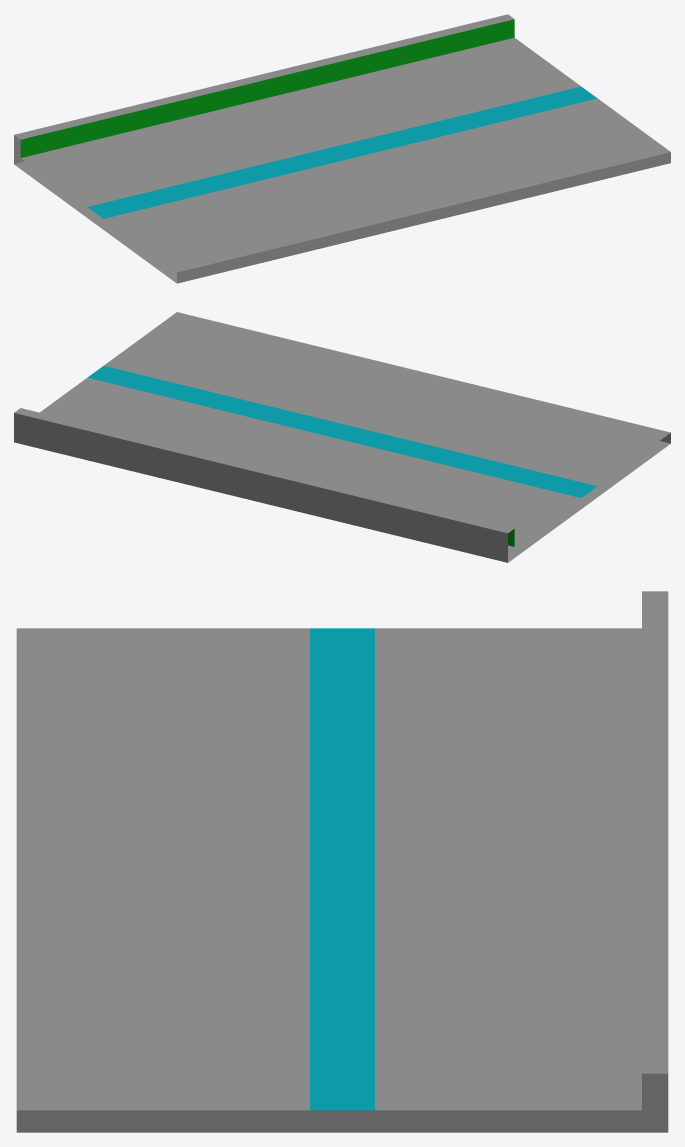
File: mesh_road_straight_01_rightrail.FBX
3 renders of one model, top to bottom at view 1: azimuth 30°, elevation 25°; view 2: azimuth 150°, elevation 25°; view 3: azimuth 270°, elevation 25°, orthographic. The views are drawn at different scales.
Visible parts, largest first — view 1: Box001; view 2: Box001; view 3: Box001.
Boxes of the visible parts, x1,y1,x2,y2 form: Box001: [14, 14, 670, 283]; Box001: [14, 312, 670, 562]; Box001: [16, 591, 668, 1132].
Size of the model in its own units: 70 by 4 by 40.
